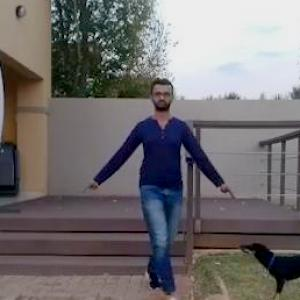land: (108, 91, 208, 278)
